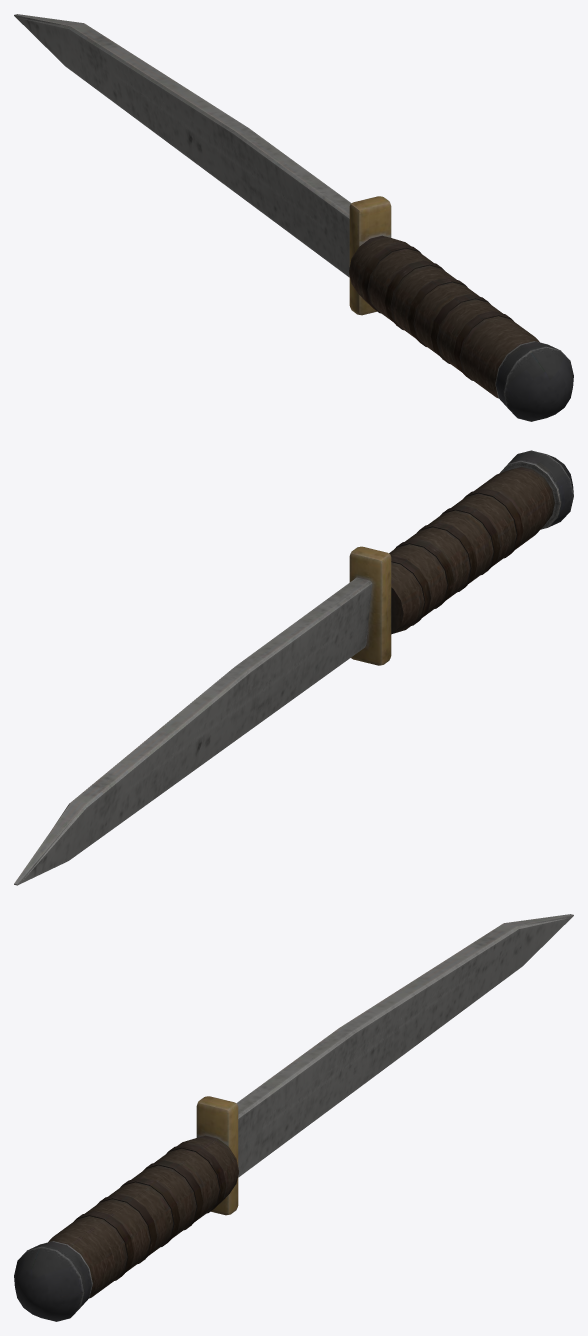
Rendered from defender_knife.glb.
3 views of the same model, one above another, from view 1: azimuth 30°, elevation 25°; view 2: azimuth 150°, elevation 25°; view 3: azimuth 330°, elevation 25° (orthographic).
Visible parts, largest first — view 1: defender_knife; view 2: defender_knife; view 3: defender_knife.
Boxes of the visible parts, x1=… form: defender_knife: x1=14, y1=14, x2=573, y2=421; defender_knife: x1=14, y1=450, x2=573, y2=885; defender_knife: x1=14, y1=914, x2=573, y2=1321.
Size of the model in its own units: 0.028 by 0.0416 by 0.3752.
1 material, 1 textured.
